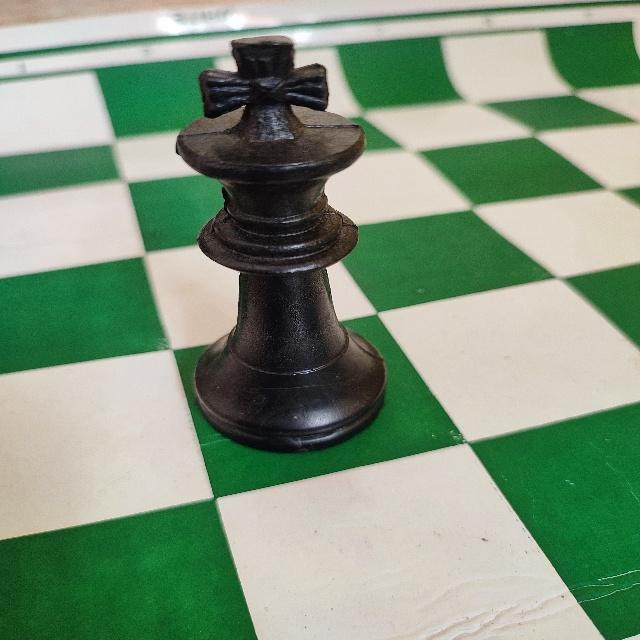King: (174, 31, 392, 455)
